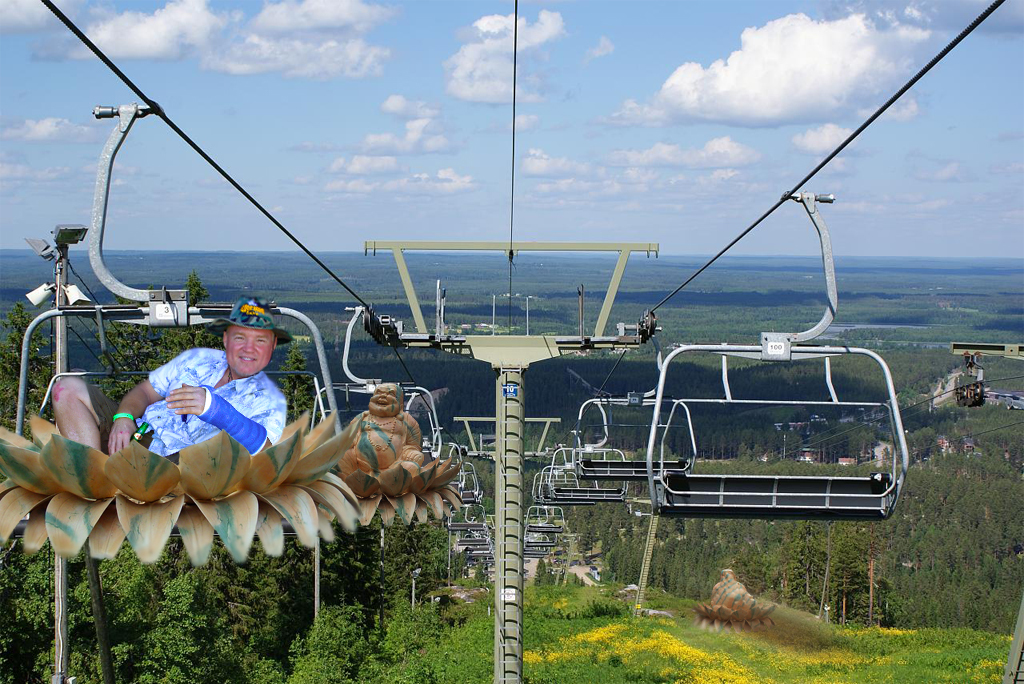Tree: (0, 249, 1024, 684)
